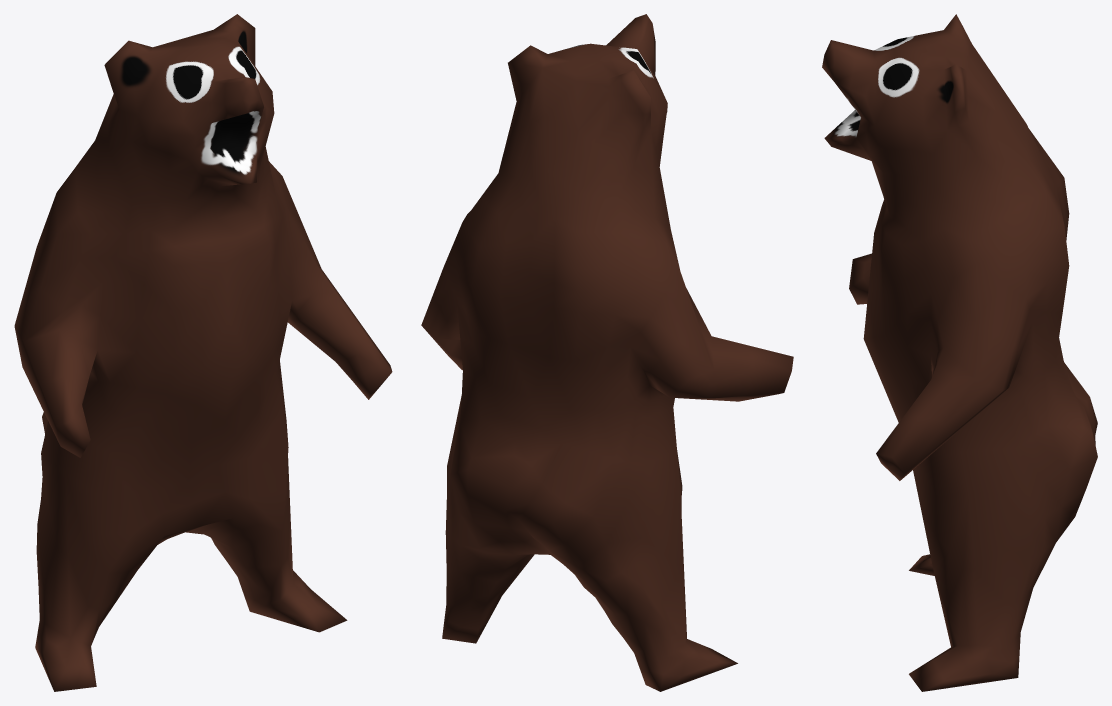
The model's file is bear.fbx.
3 views of the same model, side by side, from view 1: azimuth 30°, elevation 25°; view 2: azimuth 150°, elevation 25°; view 3: azimuth 270°, elevation 25° (orthographic). The views are drawn at different scales.
Parts seen in each view (by area): view 1: StatueBearCOL; view 2: StatueBearCOL; view 3: StatueBearCOL.
Boxes of the visible parts, box(x1,y1,x2,y2) form: StatueBearCOL: box(14, 14, 392, 691); StatueBearCOL: box(421, 14, 793, 691); StatueBearCOL: box(822, 14, 1097, 691).
Bounding box in the file's own units: 170 × 291 × 123.
